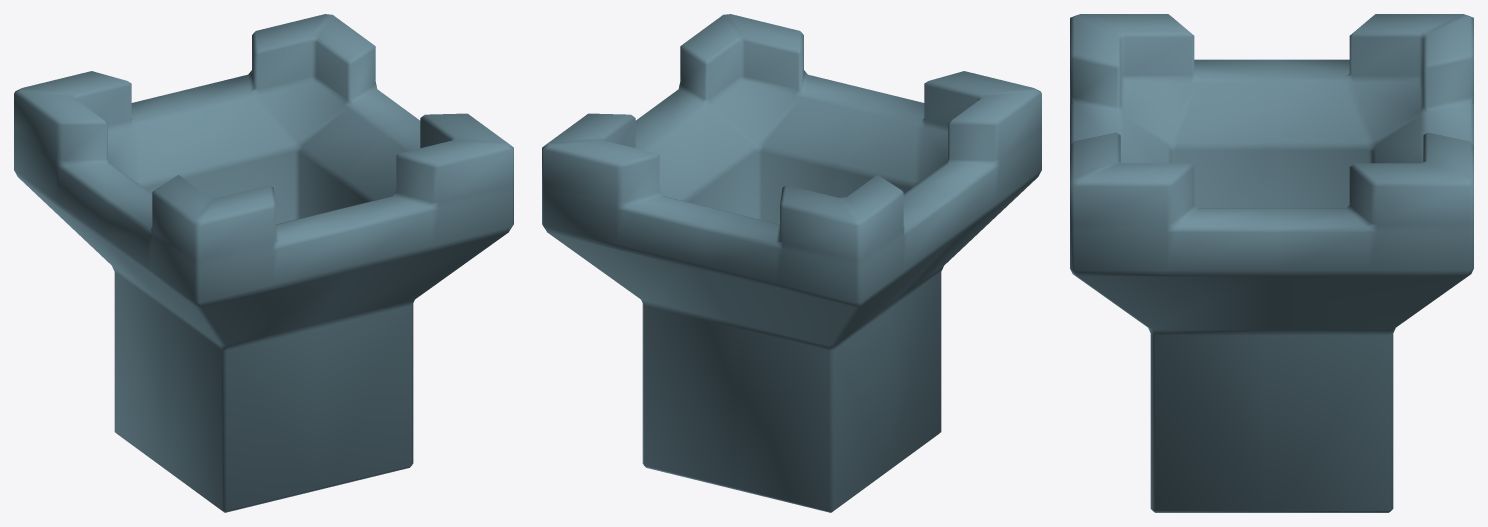
The model's file is tower.001.glb.
3 renders of one model, left to right at view 1: azimuth 30°, elevation 25°; view 2: azimuth 150°, elevation 25°; view 3: azimuth 270°, elevation 25°, orthographic. The views are drawn at different scales.
Visible parts, largest first — view 1: tower.001; view 2: tower.001; view 3: tower.001.
Boxes of the visible parts, <box> form: tower.001: <box>14,14,513,512</box>; tower.001: <box>542,14,1041,512</box>; tower.001: <box>1070,14,1473,512</box>.
Bounding box in the file's own units: 4.73 × 4.73 × 4.73.
